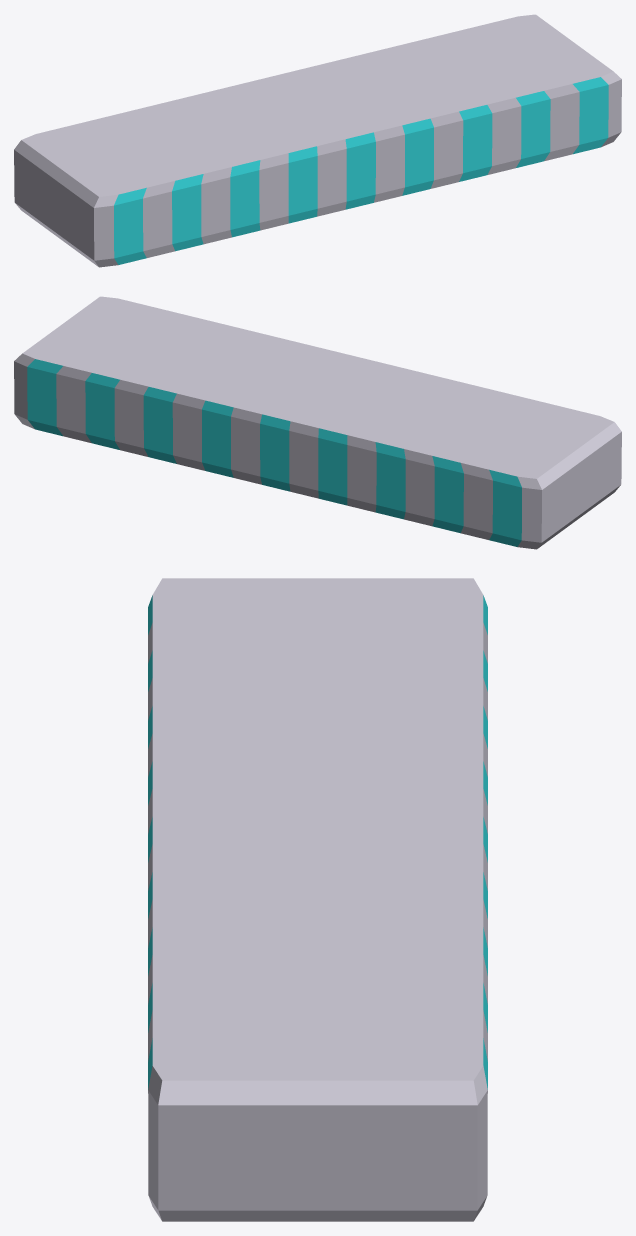
File: Moving_Bar.fbx
3 renders of one model, top to bottom at view 1: azimuth 30°, elevation 25°; view 2: azimuth 150°, elevation 25°; view 3: azimuth 270°, elevation 25°, orthographic. The views are drawn at different scales.
Visible parts, largest first — view 1: Moving Bar; view 2: Moving Bar; view 3: Moving Bar.
Boxes of the visible parts, x1,y1,x2,y2 form: Moving Bar: [14, 14, 621, 267]; Moving Bar: [14, 296, 621, 549]; Moving Bar: [148, 578, 487, 1221].
Size of the model in its own units: 940 by 120 by 262.
